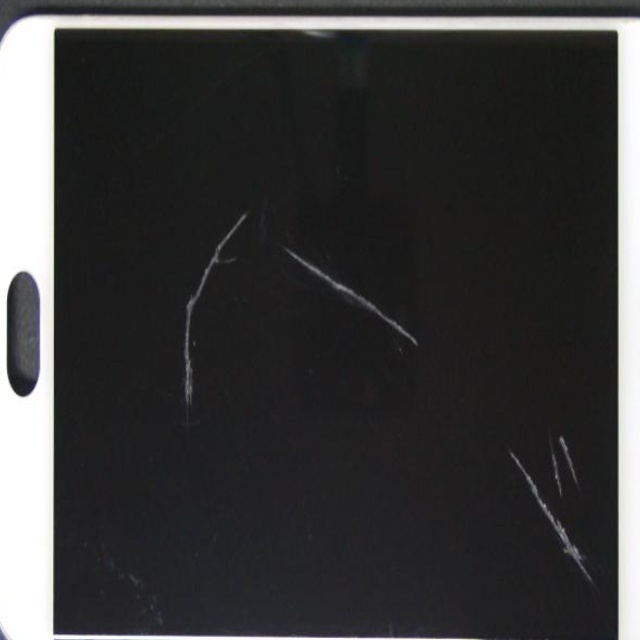scratch: (293, 173, 640, 640), (159, 68, 434, 393), (345, 342, 640, 640)
